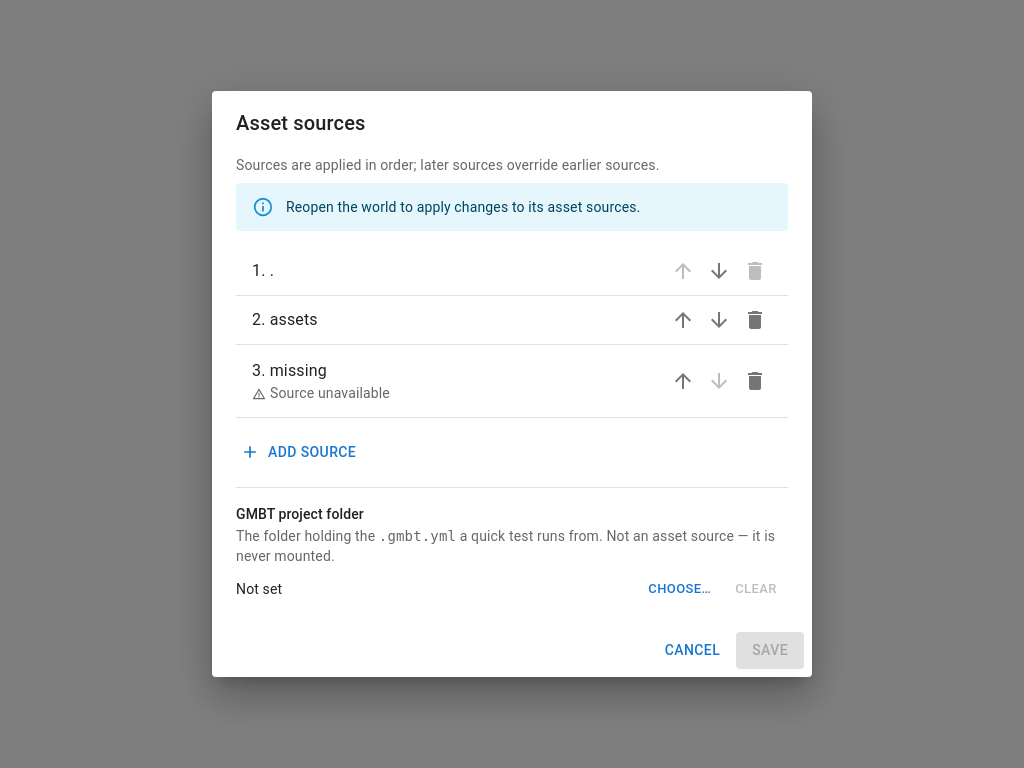
Test: AssetSourcesDialog › retains dialog and draft when save fails
The width and height of the screenshot is (1024, 768).
Click the button with aria-label "add asset source" at (300, 452), box [236,434,364,471]
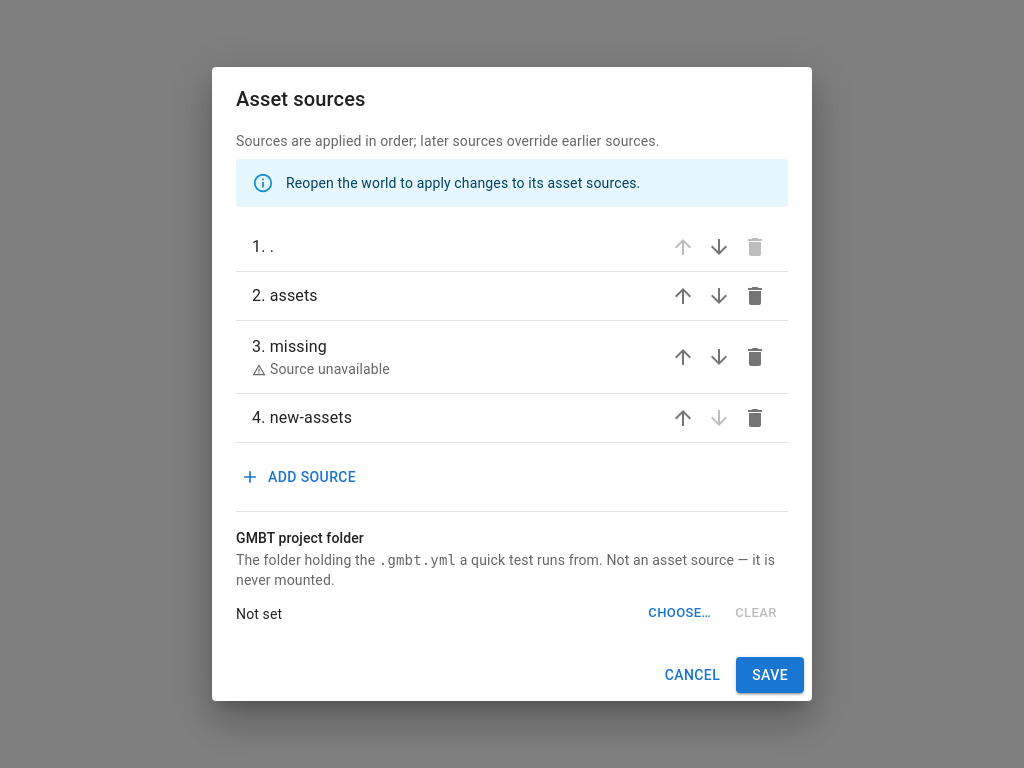
Result: the text "4. new-assets" is shown at [252,408,352,427]
Click the button with aria-label "save asset sources" at (770, 675), box [736,657,804,693]
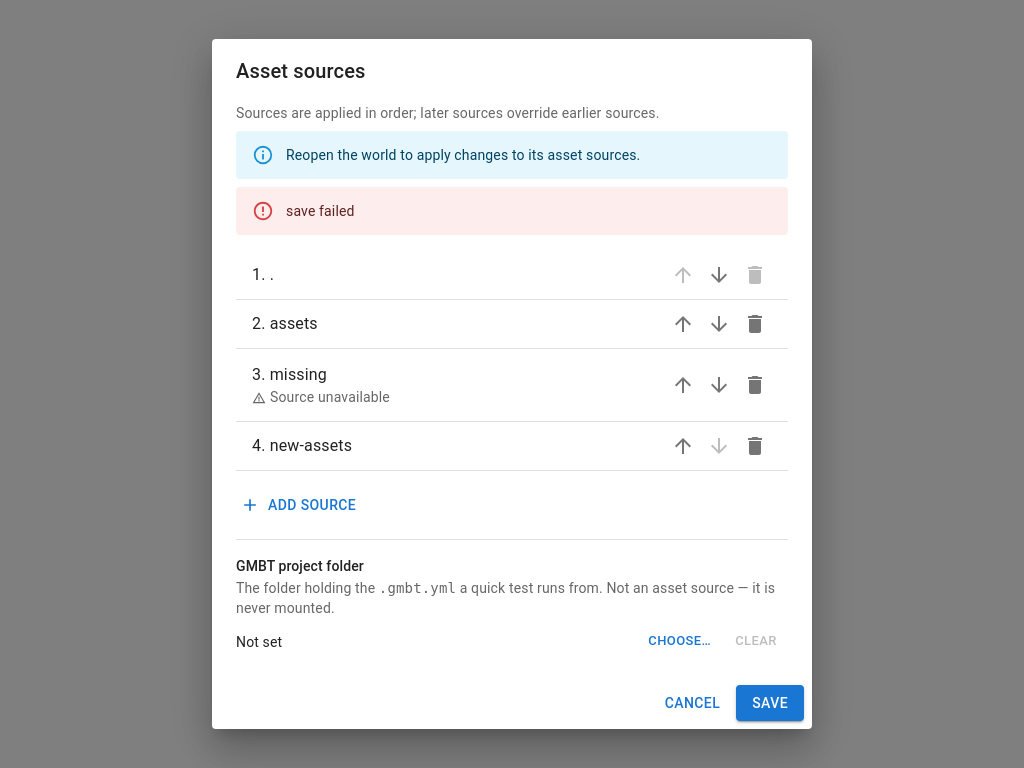
Expected: the dialog is shown, [212,39,812,729]
Result: the text "save failed" is shown at [286,203,355,219]
